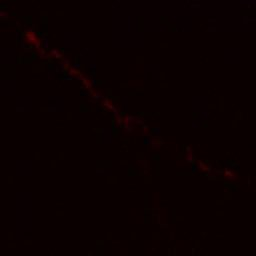debris: (113, 111, 136, 124), (82, 75, 98, 93), (64, 62, 80, 76), (25, 31, 37, 44), (197, 158, 208, 171), (48, 45, 60, 56), (222, 167, 233, 178), (103, 94, 111, 107), (187, 148, 194, 161)
